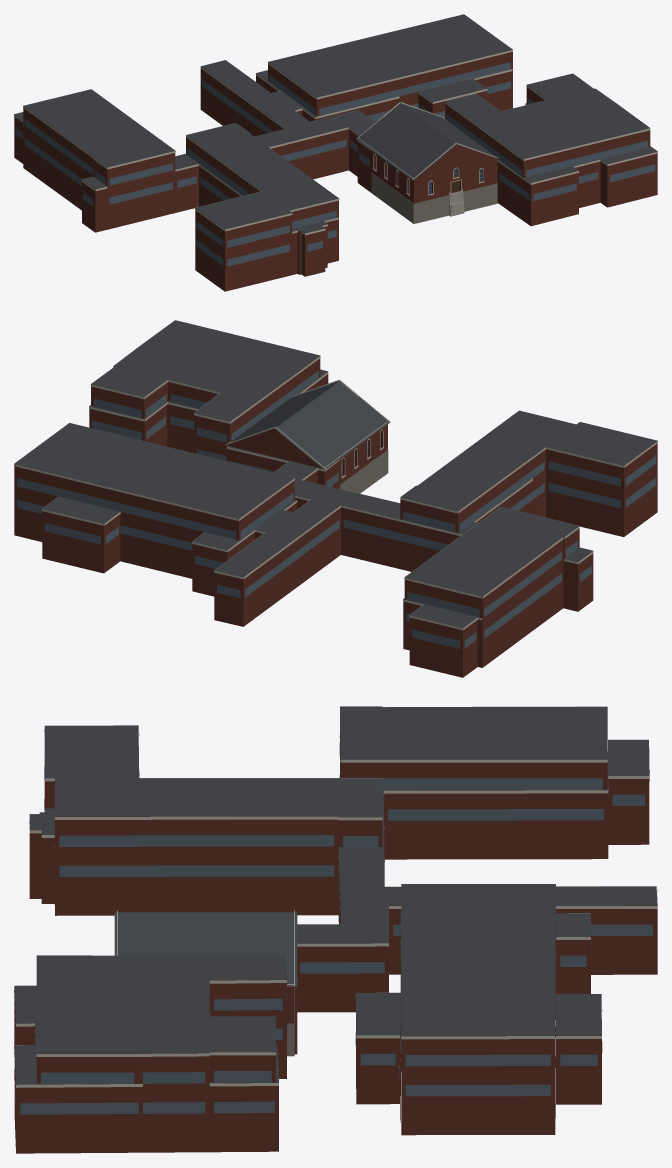
Rendered from st-mark-s-episcopal.glb.
The picture shows the model from 3 angles, top to bottom: view 1: azimuth 30°, elevation 25°; view 2: azimuth 150°, elevation 25°; view 3: azimuth 270°, elevation 25°; orthographic projection. The views are drawn at different scales.
Parts seen in each view (by area): view 1: st_mark_s_episcopal; view 2: st_mark_s_episcopal; view 3: st_mark_s_episcopal.
Boxes of the visible parts, bbox=[...] form: st_mark_s_episcopal: bbox=[14, 14, 657, 291]; st_mark_s_episcopal: bbox=[14, 320, 657, 677]; st_mark_s_episcopal: bbox=[14, 706, 657, 1153].
Bounding box in the file's own units: 115 × 16.97 × 87.41.
